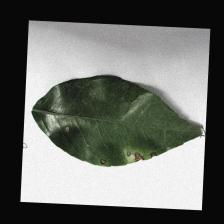greening: (62, 118, 158, 168)
